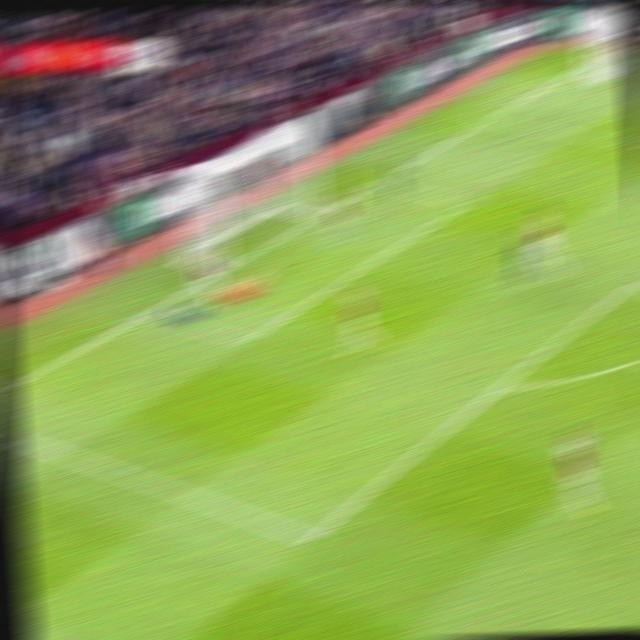bigarea_bottom_inner: (290, 521, 327, 555)
bigarea_top_outter: (471, 110, 502, 129)
bottom_arc_area_intersection: (481, 370, 519, 401)
smallarea_bottom_inner: (229, 324, 263, 355)
smallarea_bottom_outter: (131, 298, 164, 325)
smallarea_top_inner: (451, 189, 484, 213)
smallarea_top_outter: (360, 172, 390, 194)
